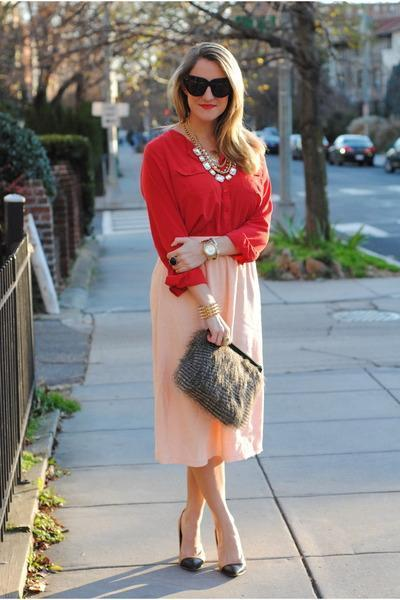bag: (174, 328, 280, 426)
shirt: (141, 132, 279, 296)
shoe: (172, 523, 241, 581)
skirt: (139, 236, 263, 467)
sunglass: (180, 73, 233, 107)
